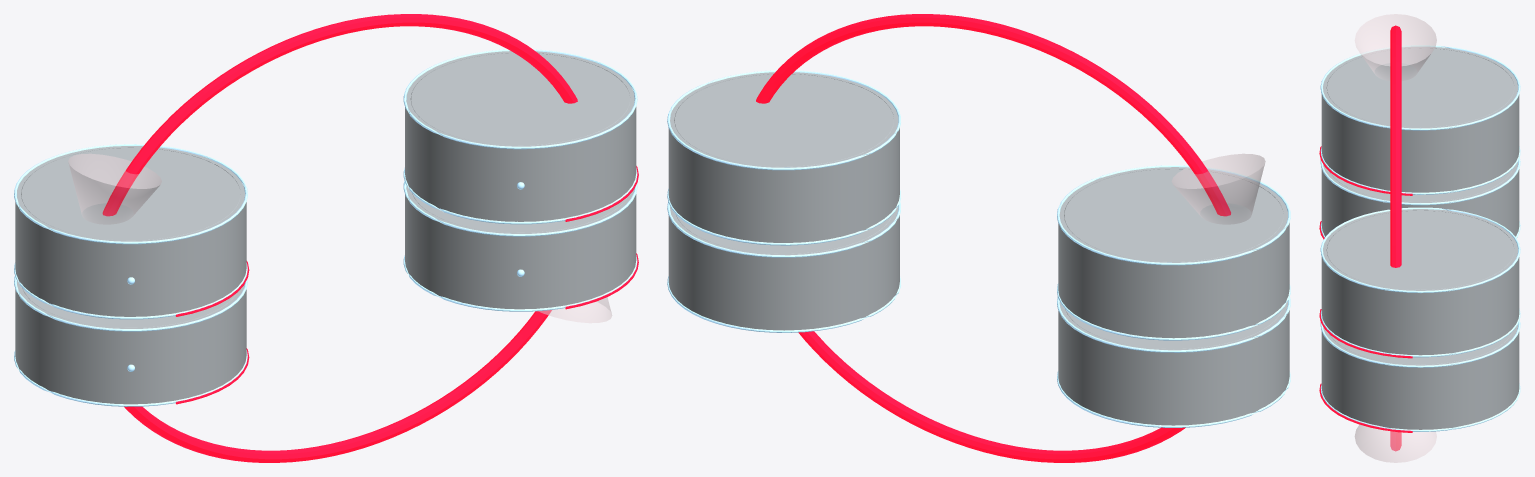
The model's file is 35-synchronization.glb.
The picture shows the model from 3 angles, left to right: view 1: azimuth 30°, elevation 25°; view 2: azimuth 150°, elevation 25°; view 3: azimuth 270°, elevation 25°; orthographic projection. The views are drawn at different scales.
Visible parts, largest first — view 1: BC thin clear technical glass, BC ruby signal edge, BC cool glass edge, BC subtle ruby technical glass; view 2: BC thin clear technical glass, BC ruby signal edge, BC cool glass edge, BC subtle ruby technical glass; view 3: BC thin clear technical glass, BC subtle ruby technical glass, BC cool glass edge, BC ruby signal edge.
Boxes of the visible parts, x1,y1,x2,y2 form: BC thin clear technical glass: [15, 51, 636, 404]; BC ruby signal edge: [102, 14, 638, 462]; BC cool glass edge: [14, 49, 637, 406]; BC subtle ruby technical glass: [68, 153, 612, 323]; BC thin clear technical glass: [668, 72, 1289, 425]; BC ruby signal edge: [756, 14, 1230, 462]; BC cool glass edge: [667, 70, 1290, 427]; BC subtle ruby technical glass: [1171, 153, 1265, 224]; BC thin clear technical glass: [1321, 46, 1519, 429]; BC subtle ruby technical glass: [1354, 14, 1436, 462]; BC cool glass edge: [1320, 45, 1520, 431]; BC ruby signal edge: [1319, 25, 1412, 451].
Bounding box in the file's own units: 2.13 × 1.48 × 0.7324.
